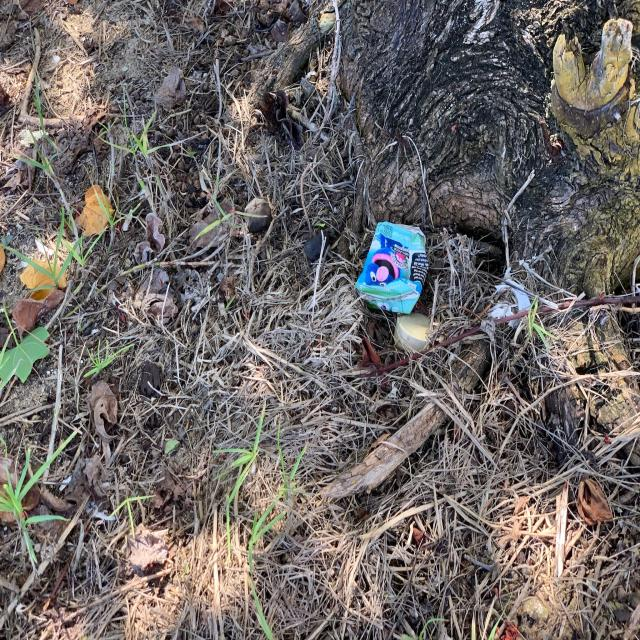litter: (354, 222, 427, 313), (392, 309, 446, 358)
